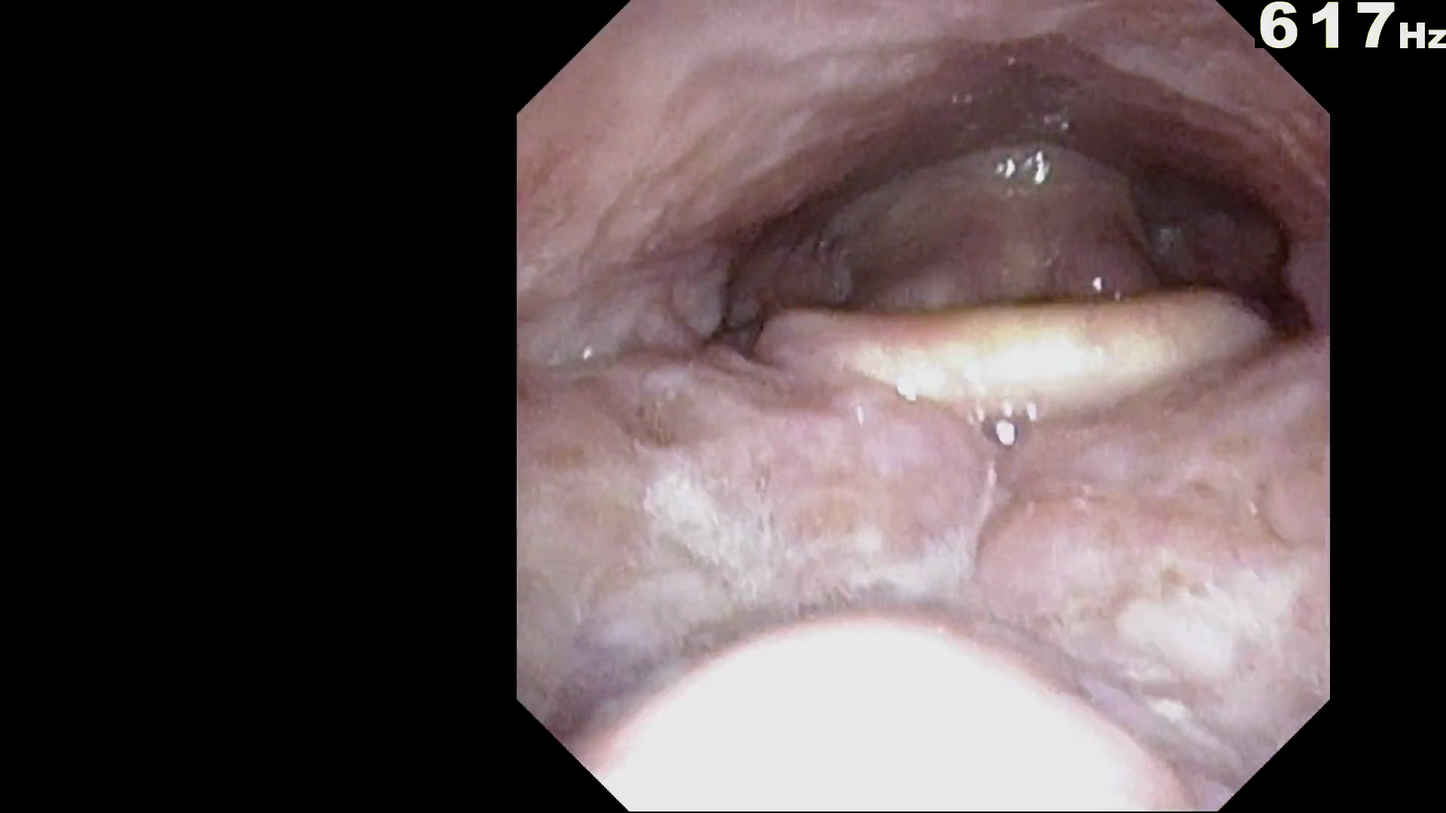epiglottis: (762, 273, 1261, 446)
